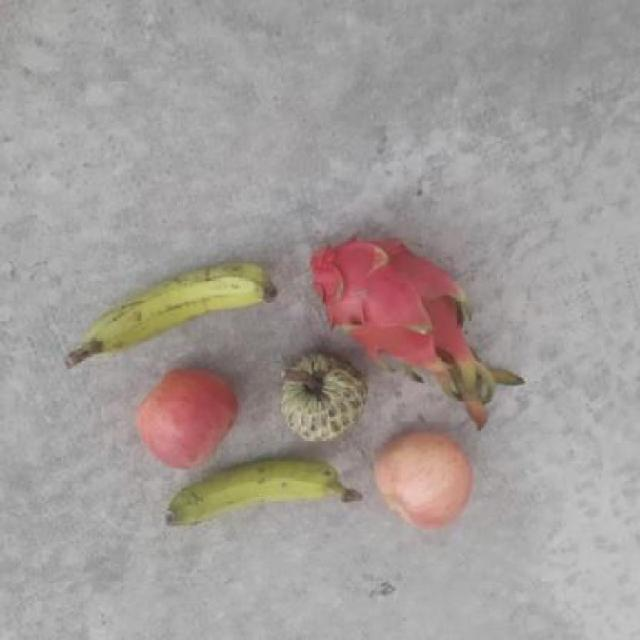apple: (135, 367, 240, 470), (370, 433, 468, 532)
banana: (83, 257, 283, 361), (168, 454, 346, 538)
dragon fruit: (302, 227, 465, 361)
sugar apple: (275, 357, 367, 446)
